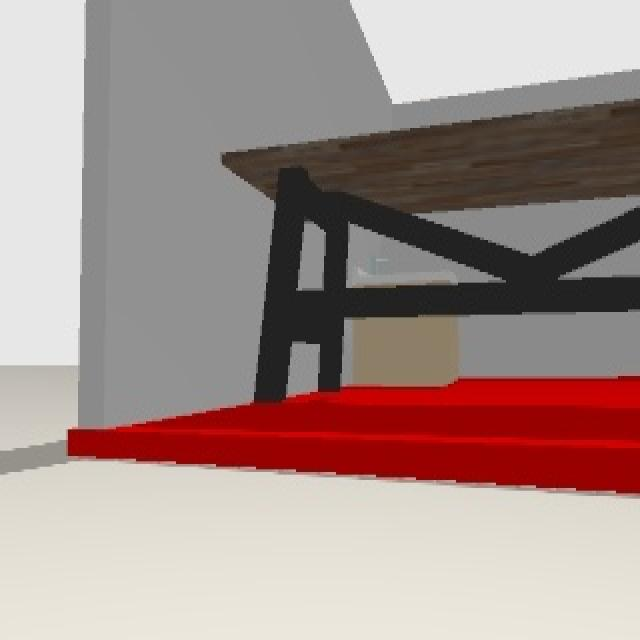dining: (221, 96, 640, 400)
